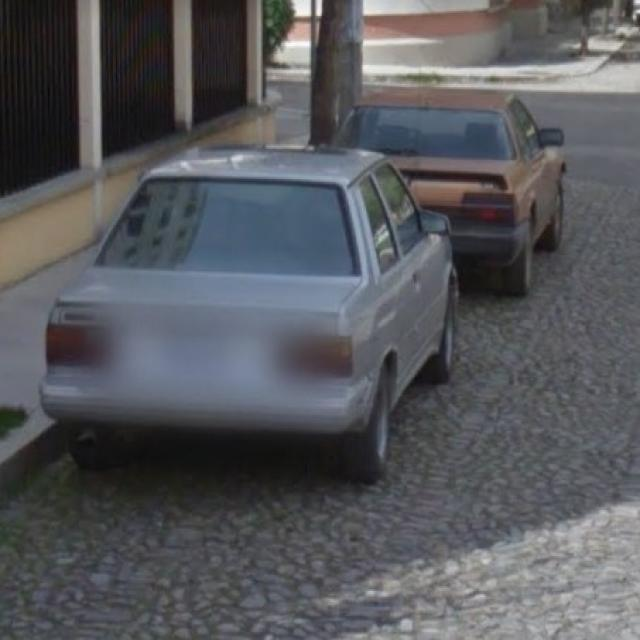Car: (46, 146, 452, 454), (352, 62, 570, 227)
